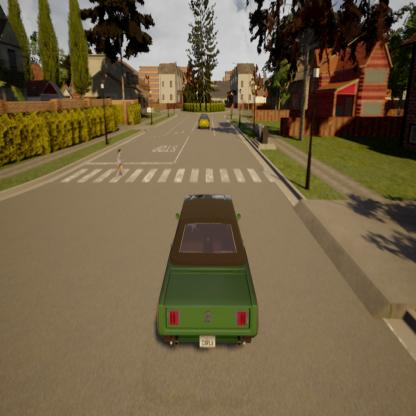Cars: (159, 194, 257, 351), (198, 112, 210, 131)
Pedestrian: (114, 148, 125, 183)
